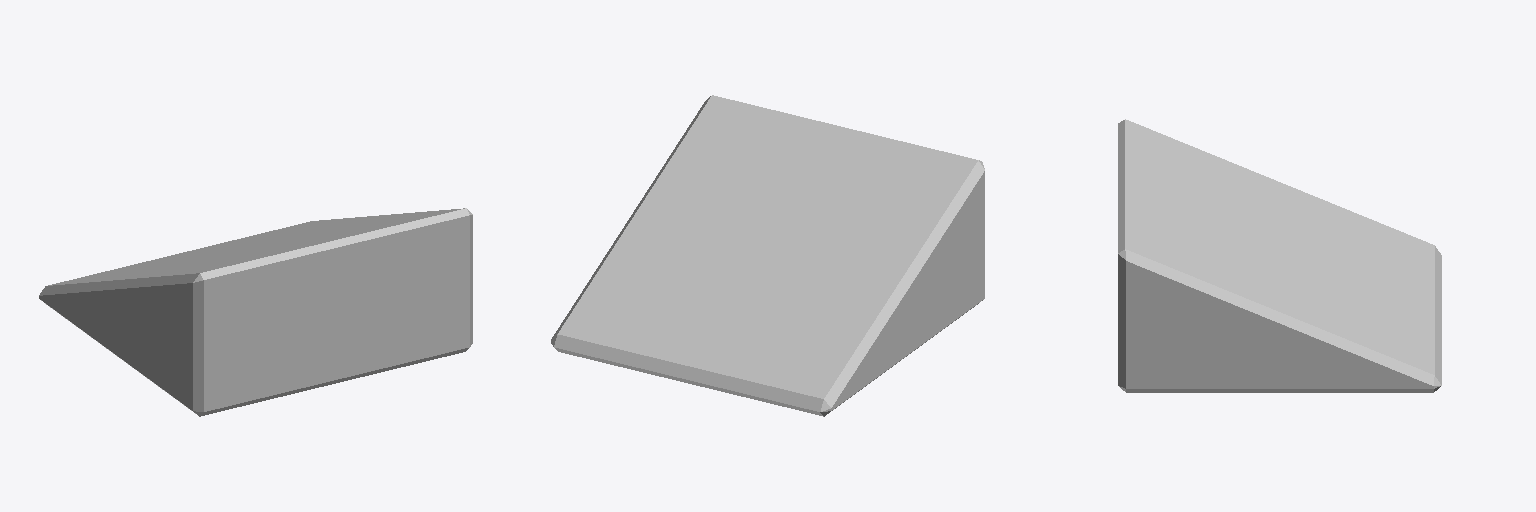
File: Stone_Block_3.obj
3 renders of one model, left to right at view 1: azimuth 30°, elevation 25°; view 2: azimuth 150°, elevation 25°; view 3: azimuth 270°, elevation 25°, orthographic.
Visible parts, largest first — view 1: Plane_Plane.001; view 2: Plane_Plane.001; view 3: Plane_Plane.001.
Part boxes in pixels (x1,y1,x2,y2): Plane_Plane.001: (39,208,472,416); Plane_Plane.001: (551,95,984,416); Plane_Plane.001: (1118,119,1441,392).
Size of the model in its own units: 2 by 0.9795 by 2.